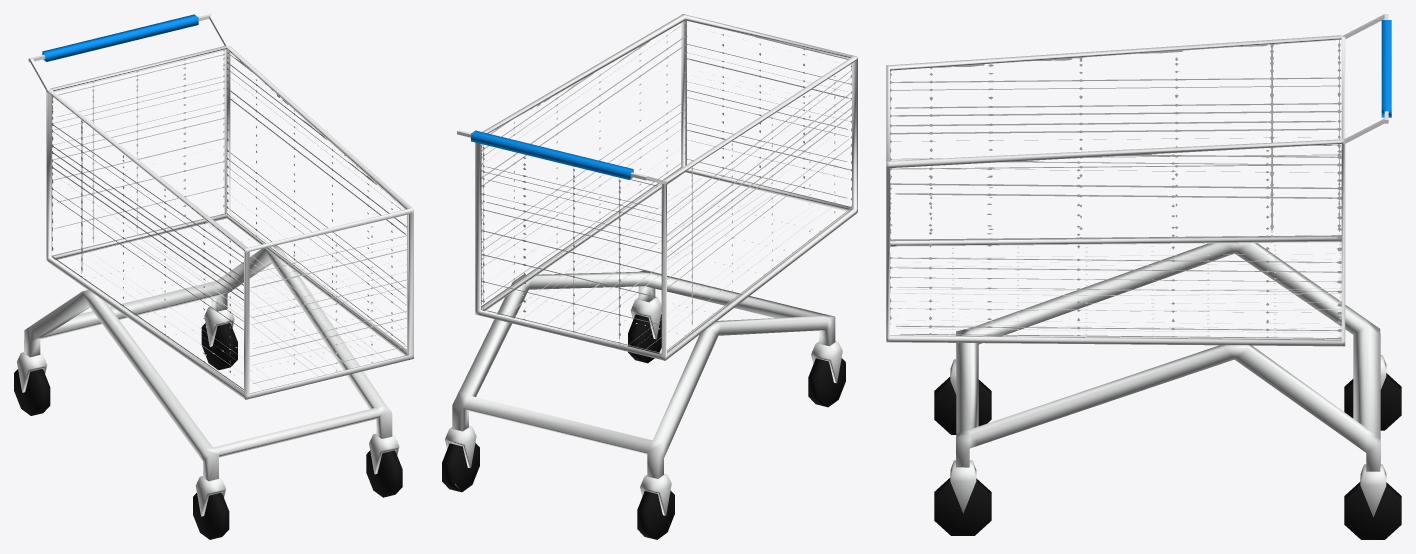
The model's file is shoppingCart.glb.
3 renders of one model, left to right at view 1: azimuth 30°, elevation 25°; view 2: azimuth 150°, elevation 25°; view 3: azimuth 270°, elevation 25°, orthographic. The views are drawn at different scales.
Parts seen in each view (by area): view 1: SM_ShoppinCart; view 2: SM_ShoppinCart; view 3: SM_ShoppinCart.
Boxes of the visible parts, x1,y1,x2,y2 form: SM_ShoppinCart: (14, 14, 413, 539); SM_ShoppinCart: (442, 14, 857, 539); SM_ShoppinCart: (886, 14, 1401, 539).
Bounding box in the file's own units: 0.6694 × 1.08 × 1.21.
Materials: 1 (1 with a texture image).
